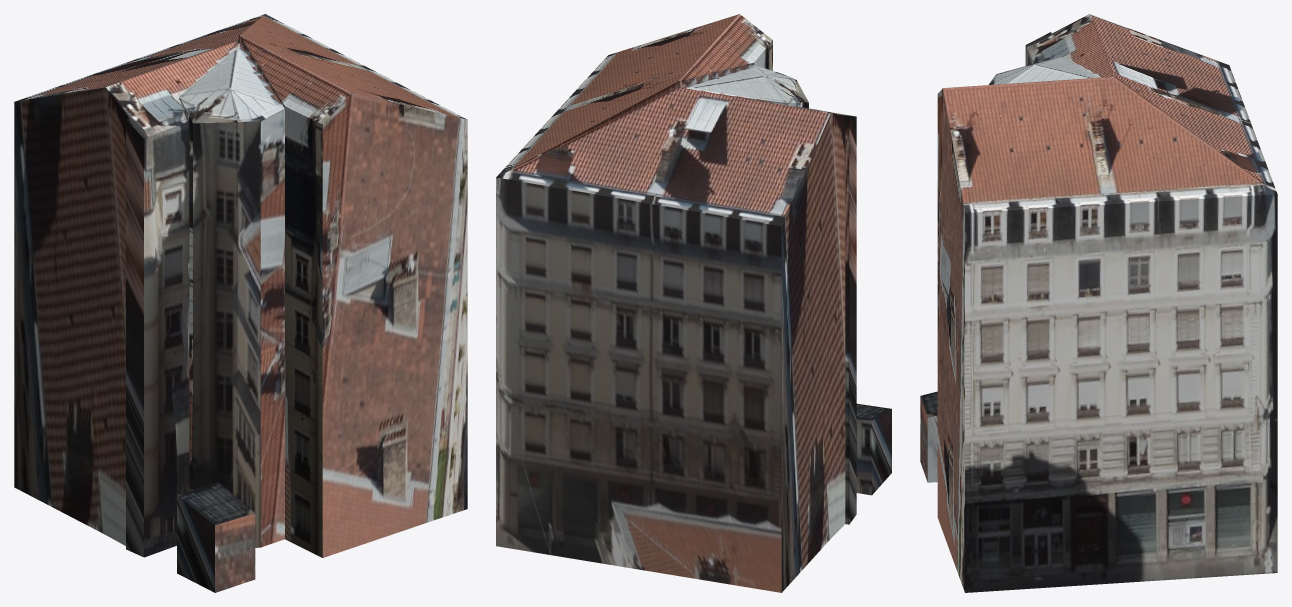
The picture shows the model from 3 angles, left to right: view 1: azimuth 30°, elevation 25°; view 2: azimuth 150°, elevation 25°; view 3: azimuth 270°, elevation 25°; orthographic projection. The views are drawn at different scales.
Parts seen in each view (by area): view 1: Z_UP; view 2: Z_UP; view 3: Z_UP.
Boxes of the visible parts, box(x1,y1,x2,y2) form: Z_UP: box(14, 14, 467, 592); Z_UP: box(496, 14, 891, 592); Z_UP: box(920, 14, 1277, 592).
Bounding box in the file's own units: 20.09 × 27.49 × 20.03.
Materials: 2 (1 with a texture image).
